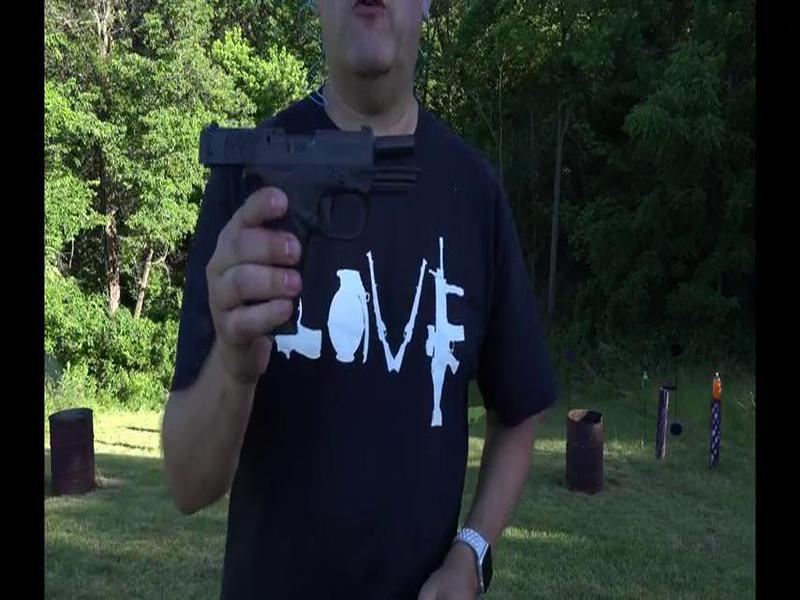Pistola: (199, 112, 418, 332)
